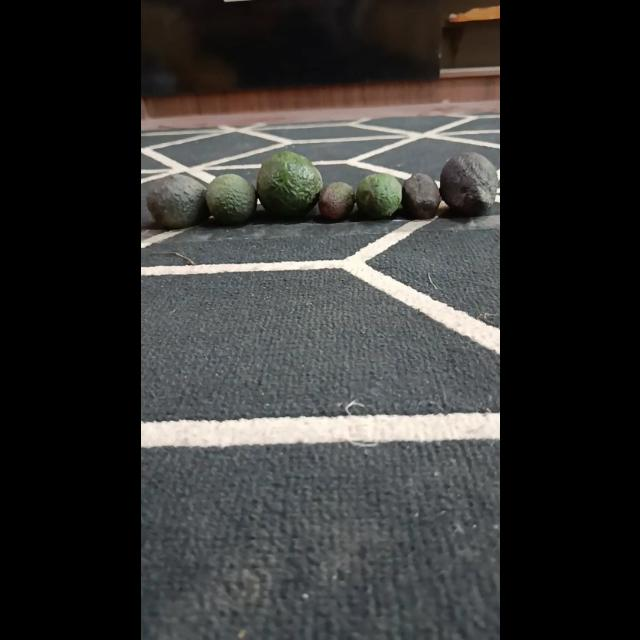Primera: (255, 150, 322, 218), (438, 152, 498, 216)
Segunda: (145, 174, 207, 230), (204, 172, 256, 224), (354, 172, 402, 220)
Tercera: (401, 172, 442, 220), (316, 180, 356, 220)
